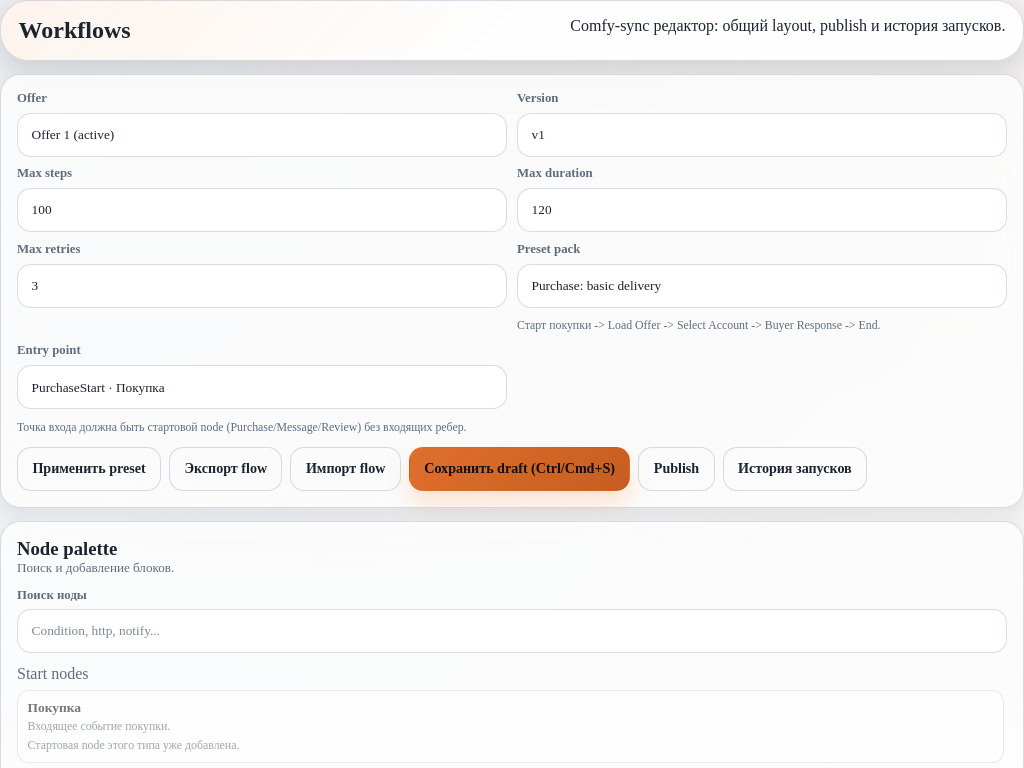
Test: ProjectWorkflowsPanel › drawer истории запусков открывается и рендерит шаги execution
Click the button "История запусков" at [795, 469], box [723, 447, 867, 491]
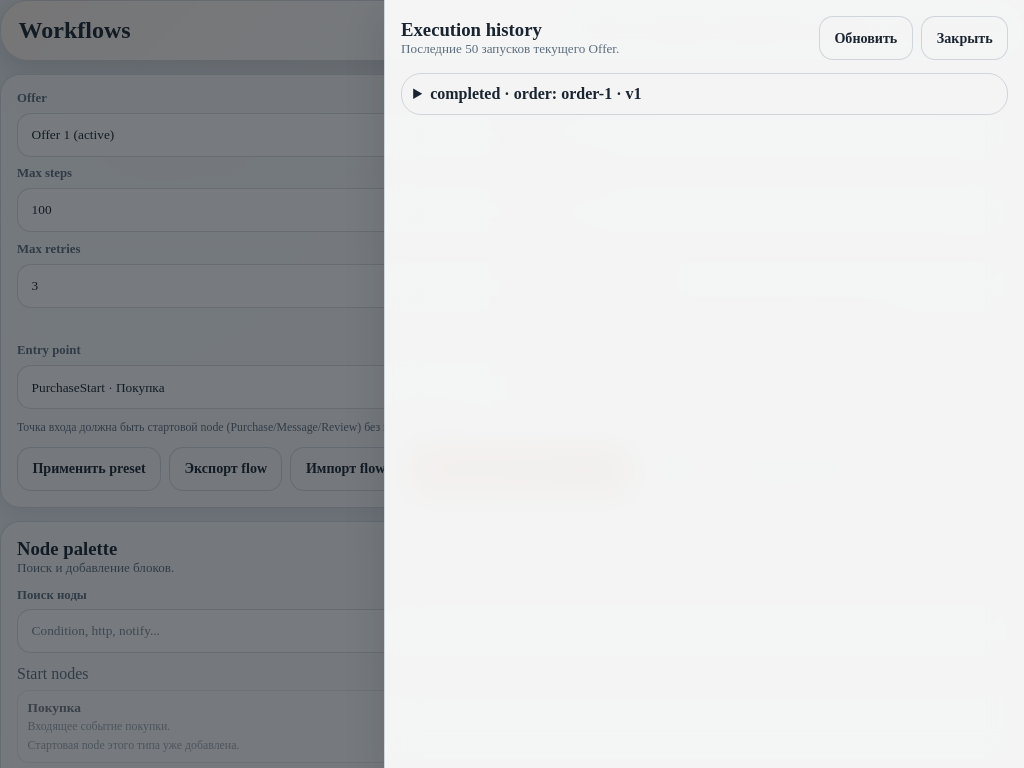
Result: the element with class "workflow-history-layer" is shown
Result: the heading "completed · order: order-1 · v1" is shown at [430, 85, 642, 102]
